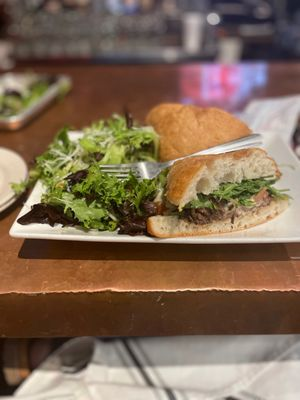soup: (10, 116, 296, 239), (146, 142, 292, 239), (145, 103, 257, 161)
